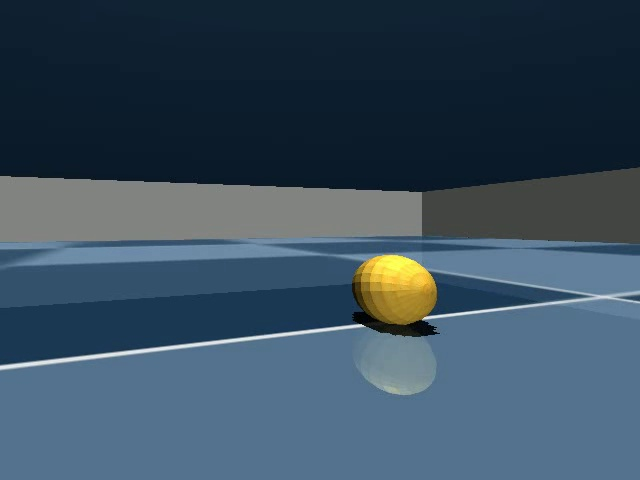lemon: (345, 247, 442, 337)
